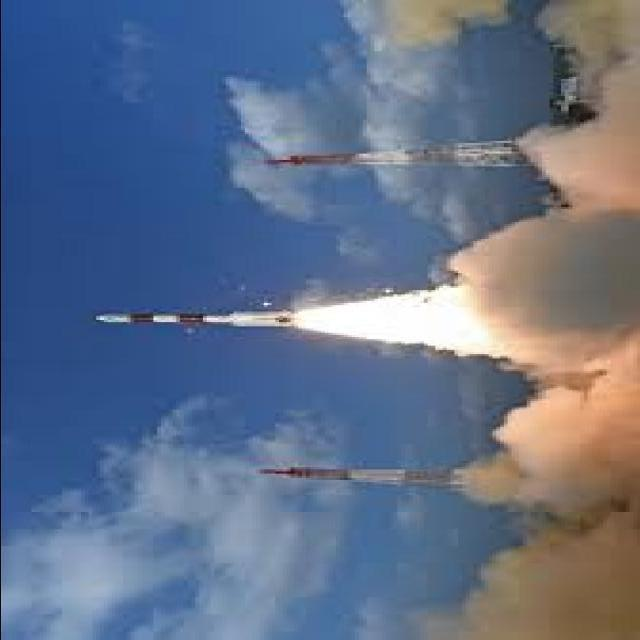missile: (90, 307, 302, 341)
